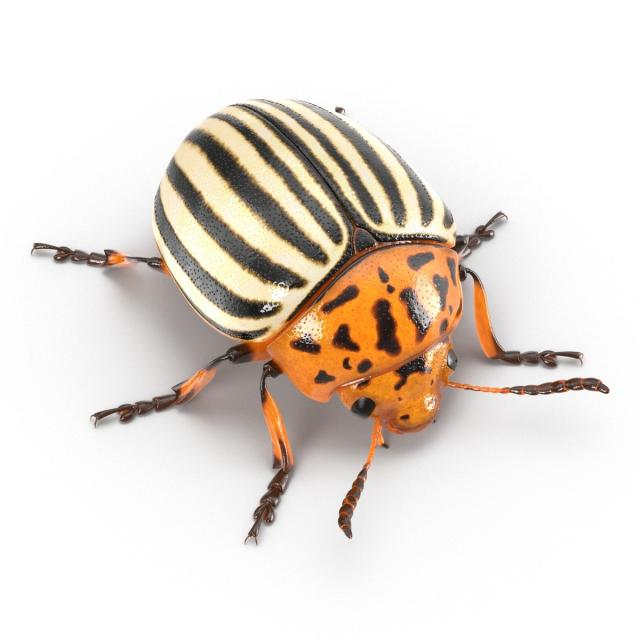ShuCaiHuaBanChong-Grown-: (117, 87, 531, 473)
